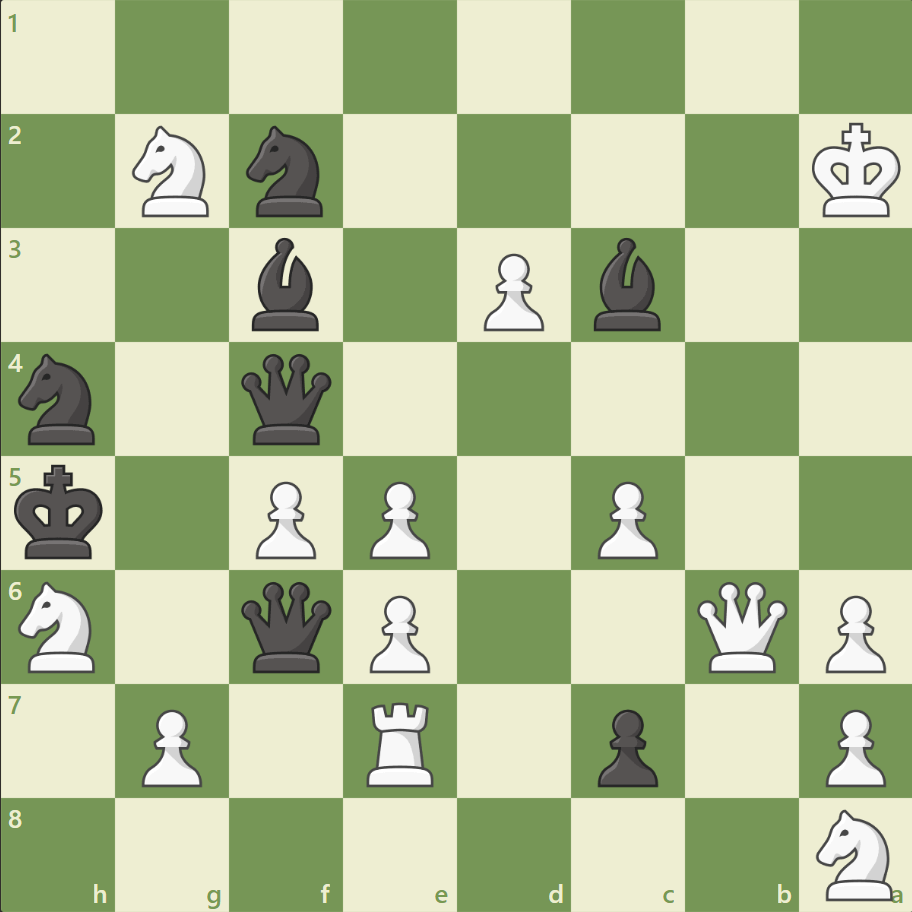K: (806, 117, 906, 225)
N: (124, 121, 222, 223), (806, 802, 903, 904), (11, 575, 108, 677)
P: (133, 700, 208, 791), (247, 473, 322, 564), (474, 246, 549, 337), (815, 700, 889, 791), (815, 586, 889, 677), (361, 586, 435, 677), (588, 473, 662, 564), (361, 473, 435, 564)
Q: (691, 576, 790, 676)
R: (360, 693, 442, 790)
b: (585, 233, 669, 336), (244, 233, 328, 336)
k: (11, 458, 111, 566)
n: (11, 348, 108, 450), (238, 121, 335, 223)
p: (588, 700, 662, 791)
q: (237, 576, 336, 676), (237, 349, 336, 449)
